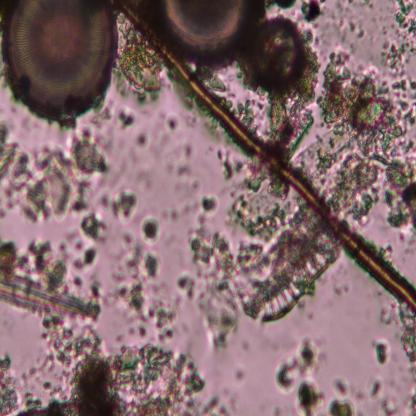Background material: (0, 323, 206, 415), (313, 48, 416, 226), (176, 195, 247, 345), (0, 127, 107, 212), (112, 233, 160, 305), (238, 168, 286, 232), (115, 32, 160, 96), (274, 334, 322, 390), (269, 97, 315, 154), (385, 0, 416, 83), (394, 301, 416, 411), (29, 241, 70, 290), (168, 144, 201, 193), (148, 300, 178, 340), (214, 145, 244, 181), (367, 375, 394, 415), (328, 377, 356, 415), (297, 378, 324, 415), (0, 243, 29, 277), (80, 213, 109, 241), (113, 188, 138, 219), (204, 394, 238, 414), (74, 242, 98, 270), (372, 338, 391, 368), (302, 0, 324, 23), (141, 217, 160, 243), (337, 268, 352, 298), (116, 108, 136, 129), (132, 128, 151, 146), (264, 0, 298, 10), (165, 112, 180, 134), (233, 365, 248, 383), (136, 324, 147, 337)
Diatom: (6, 1, 120, 124), (0, 243, 101, 322), (247, 235, 334, 320), (160, 0, 262, 62), (254, 20, 307, 95)
